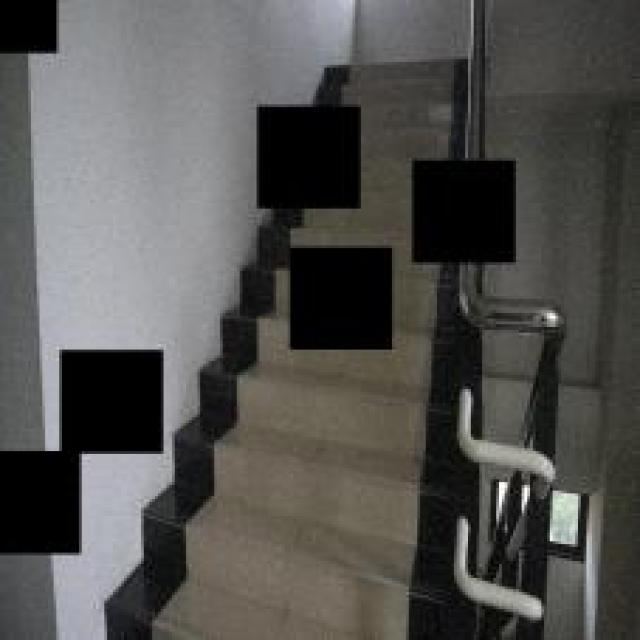upstair: (197, 364, 440, 637)
